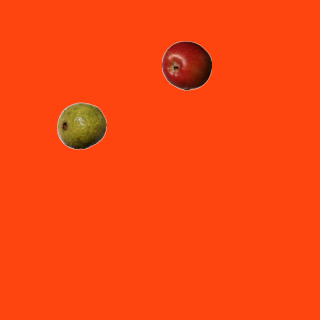Apple Braeburn: (161, 40, 211, 90)
Guava: (56, 100, 106, 150)
